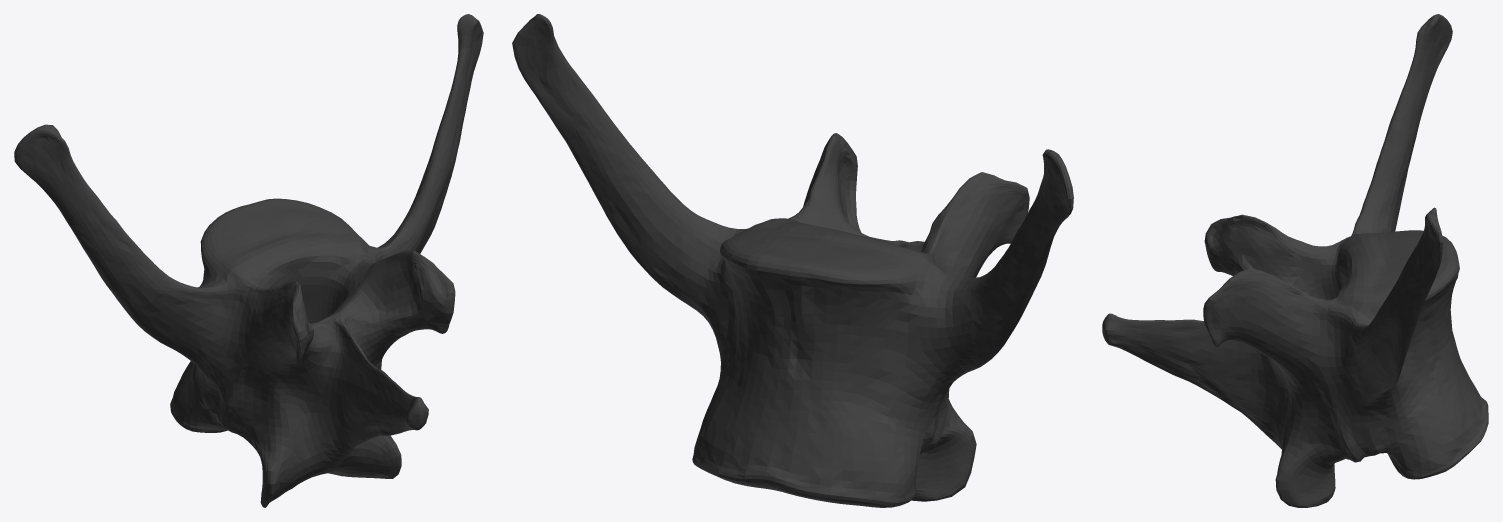
The picture shows the model from 3 angles, left to right: view 1: azimuth 30°, elevation 25°; view 2: azimuth 150°, elevation 25°; view 3: azimuth 270°, elevation 25°; orthographic projection. The views are drawn at different scales.
Parts seen in each view (by area): view 1: l6_low; view 2: l6_low; view 3: l6_low.
Part boxes in pixels (<box>): l6_low: <box>14,14,483,507</box>; l6_low: <box>512,14,1073,507</box>; l6_low: <box>1102,14,1488,507</box>.
Bounding box in the file's own units: 78.72 × 61.66 × 57.7.
Materials: 1 (1 with a texture image).
